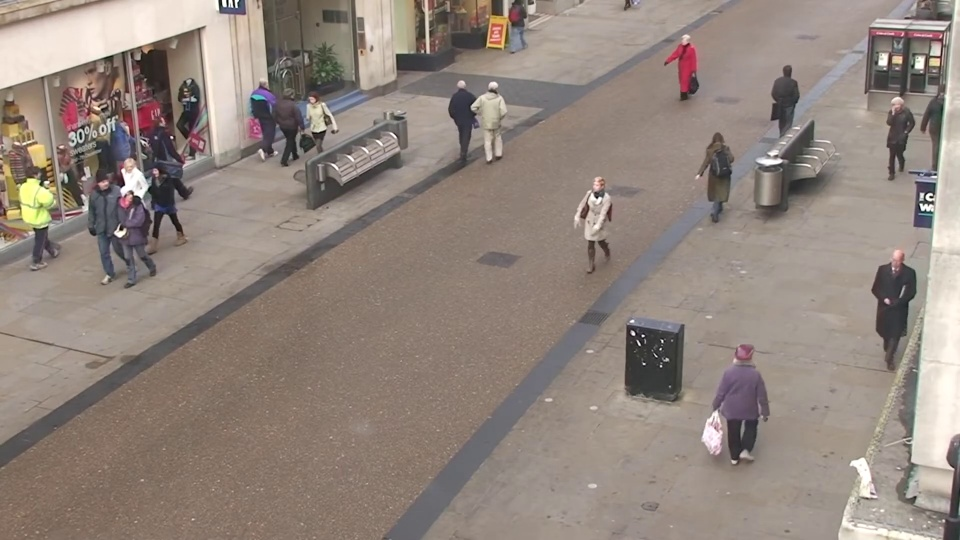pedestrian: (721, 330, 775, 482), (862, 247, 917, 379), (20, 158, 73, 263), (103, 183, 151, 294), (79, 170, 128, 277), (105, 157, 150, 261), (132, 159, 176, 264), (577, 173, 613, 285), (872, 94, 914, 187), (153, 110, 192, 201), (703, 121, 737, 218), (295, 94, 328, 182), (279, 81, 311, 165), (772, 60, 804, 142), (254, 71, 285, 152), (483, 76, 512, 161), (451, 71, 480, 155), (667, 32, 692, 105)
